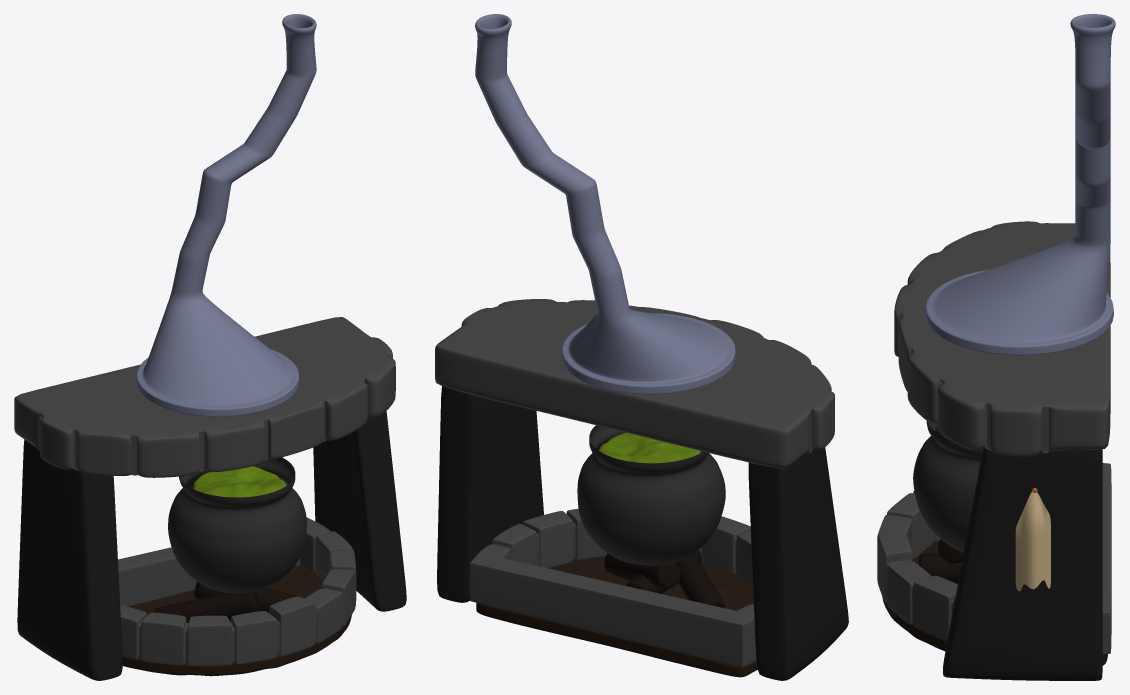
Rendered from fire_place.obj.
The picture shows the model from 3 angles, left to right: view 1: azimuth 30°, elevation 25°; view 2: azimuth 150°, elevation 25°; view 3: azimuth 270°, elevation 25°; orthographic projection. The views are drawn at different scales.
Visible parts, largest first — view 1: Plane.025; view 2: Plane.025; view 3: Plane.025.
Boxes of the visible parts, x1,y1,x2,y2 form: Plane.025: (14,14,406,680); Plane.025: (435,14,848,680); Plane.025: (877,14,1115,680).
Bounding box in the file's own units: 2.15 × 3.35 × 1.13.
